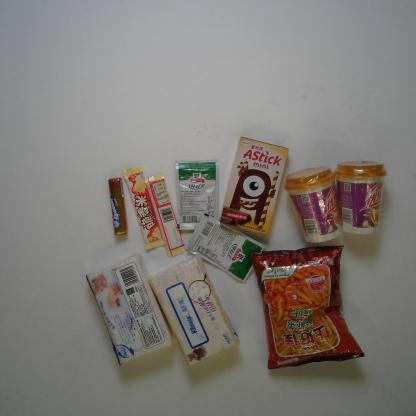Candy: (107, 177, 128, 236)
Chocolate: (121, 165, 165, 251), (144, 172, 187, 258)
Dessert: (218, 136, 290, 236)
Instant Drink: (283, 164, 342, 244), (334, 158, 389, 236)
Puffed Food: (248, 244, 365, 370)
Seasoner: (184, 212, 266, 284), (173, 158, 220, 231)
Tissue: (147, 253, 241, 368), (85, 253, 174, 366)
